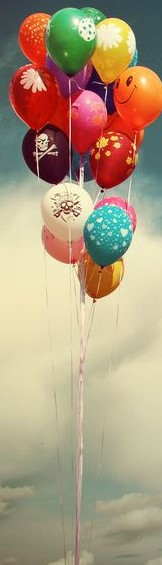Balloon: (45, 8, 97, 76), (8, 64, 58, 129), (41, 183, 95, 241), (113, 66, 162, 129), (22, 124, 71, 184), (84, 206, 132, 265), (90, 132, 138, 189), (62, 91, 107, 151)
